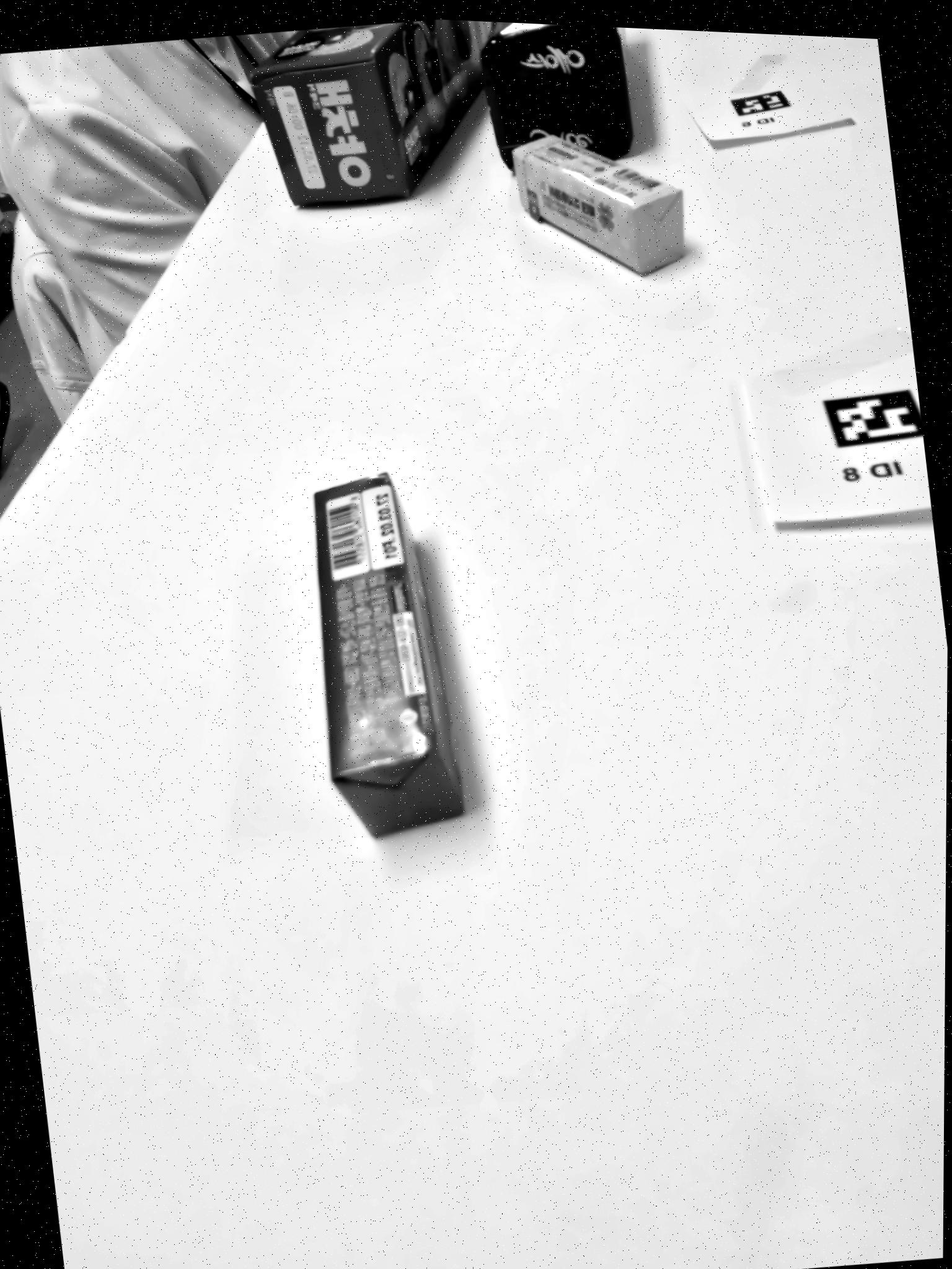gum_green: (315, 474, 464, 837)
